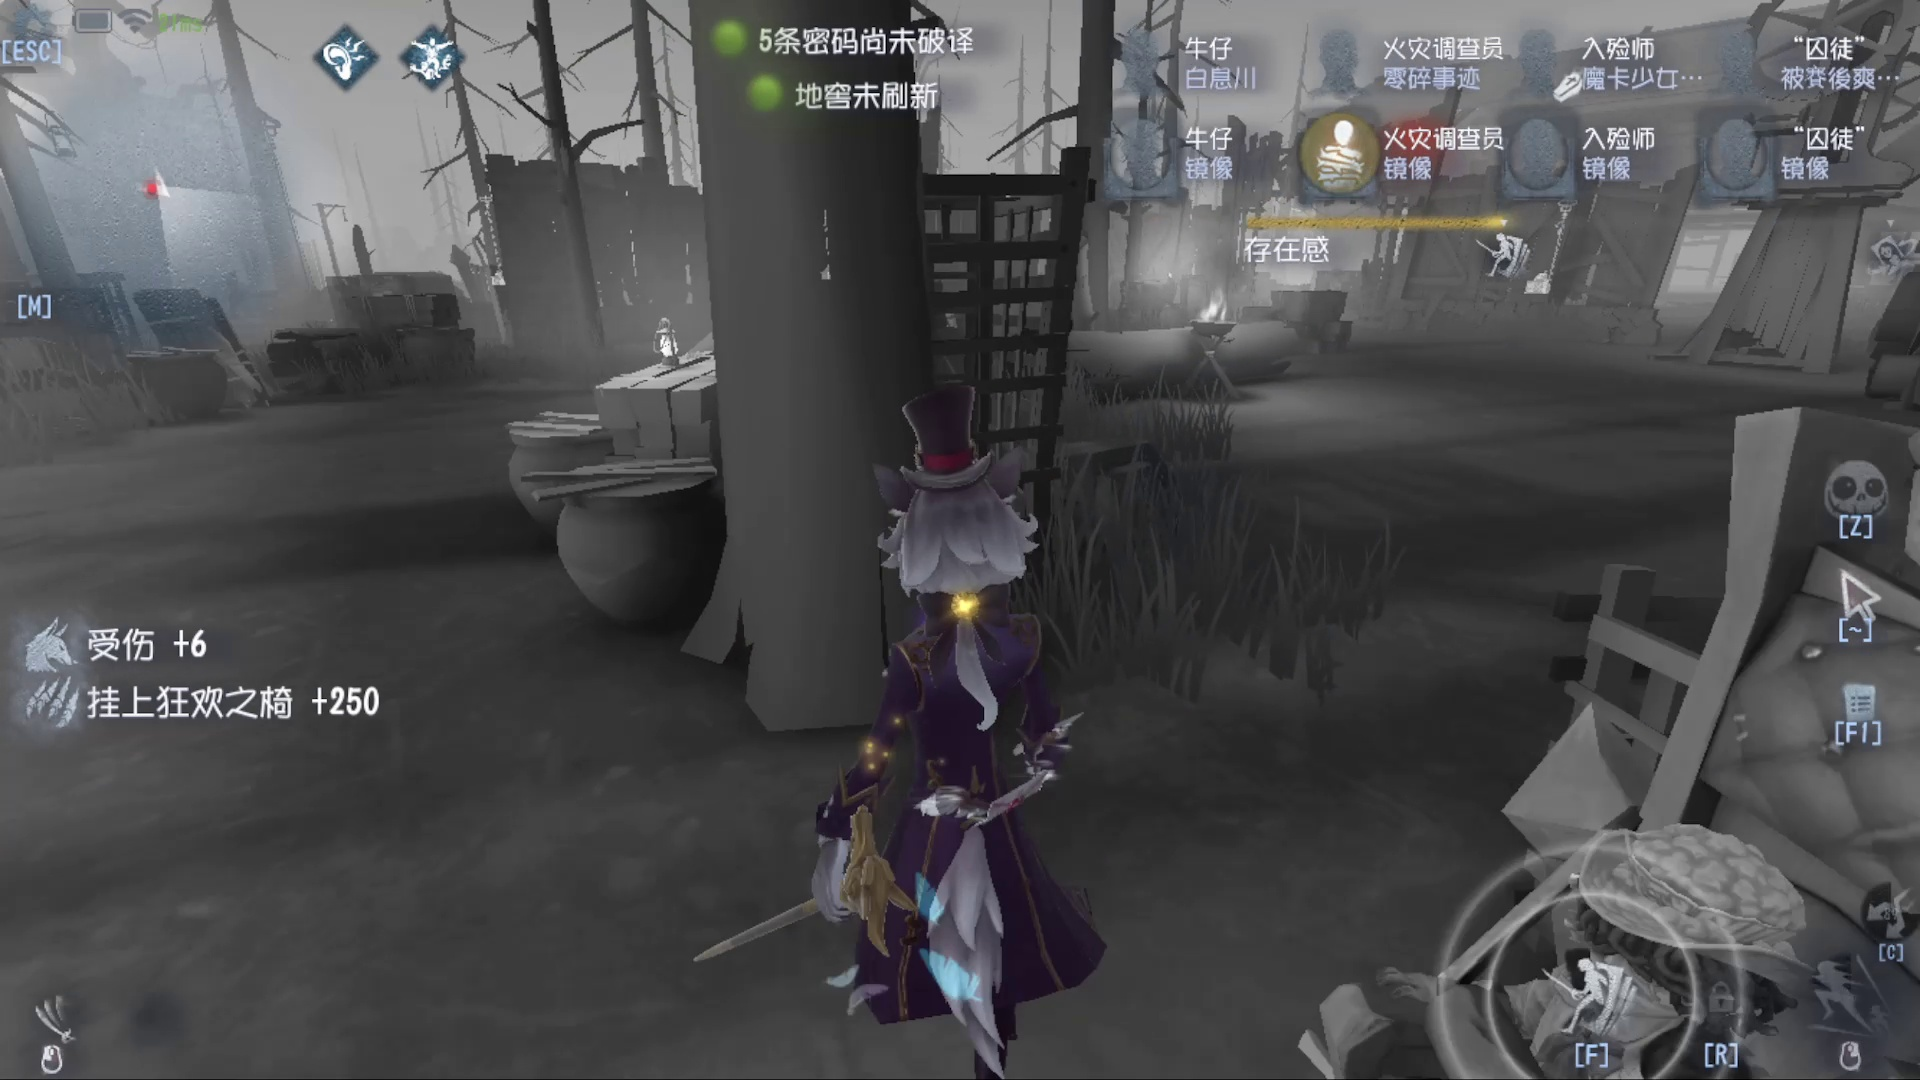密码机: (798, 193, 865, 307)
木板: (115, 277, 276, 417)
